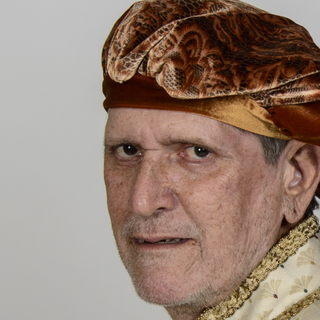eye: (173, 140, 220, 167), (106, 139, 147, 162)
